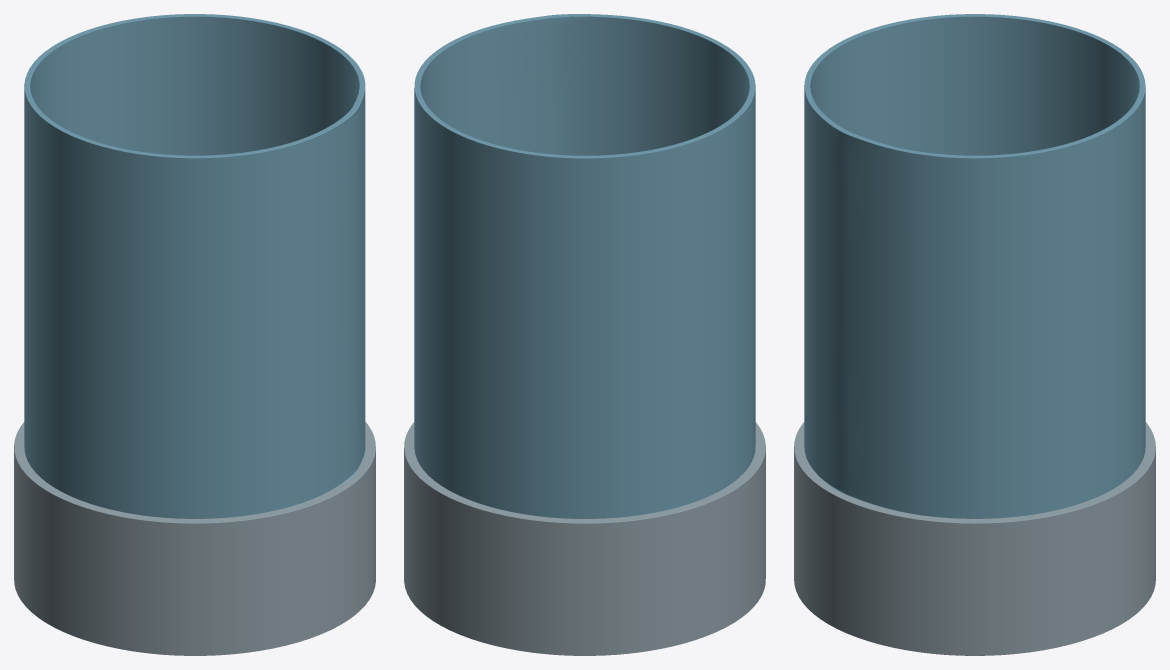
File: Aquarium.fbx
The picture shows the model from 3 angles, left to right: view 1: azimuth 30°, elevation 25°; view 2: azimuth 150°, elevation 25°; view 3: azimuth 270°, elevation 25°; orthographic projection.
Parts seen in each view (by area): view 1: polySurface1, polySurface2; view 2: polySurface1, polySurface2; view 3: polySurface1, polySurface2.
Part boxes in pixels (x1,y1,x2,y2): polySurface1: (24, 14, 365, 518); polySurface2: (14, 422, 375, 655); polySurface1: (414, 14, 755, 518); polySurface2: (404, 422, 765, 655); polySurface1: (804, 14, 1145, 518); polySurface2: (794, 422, 1155, 655).
Bounding box in the file's own units: 104 × 157 × 104.
